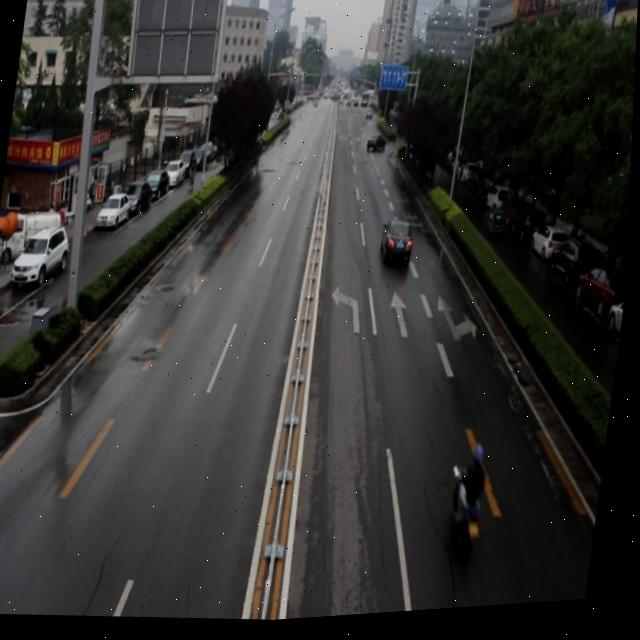car: (379, 219, 418, 271), (365, 136, 389, 159)
